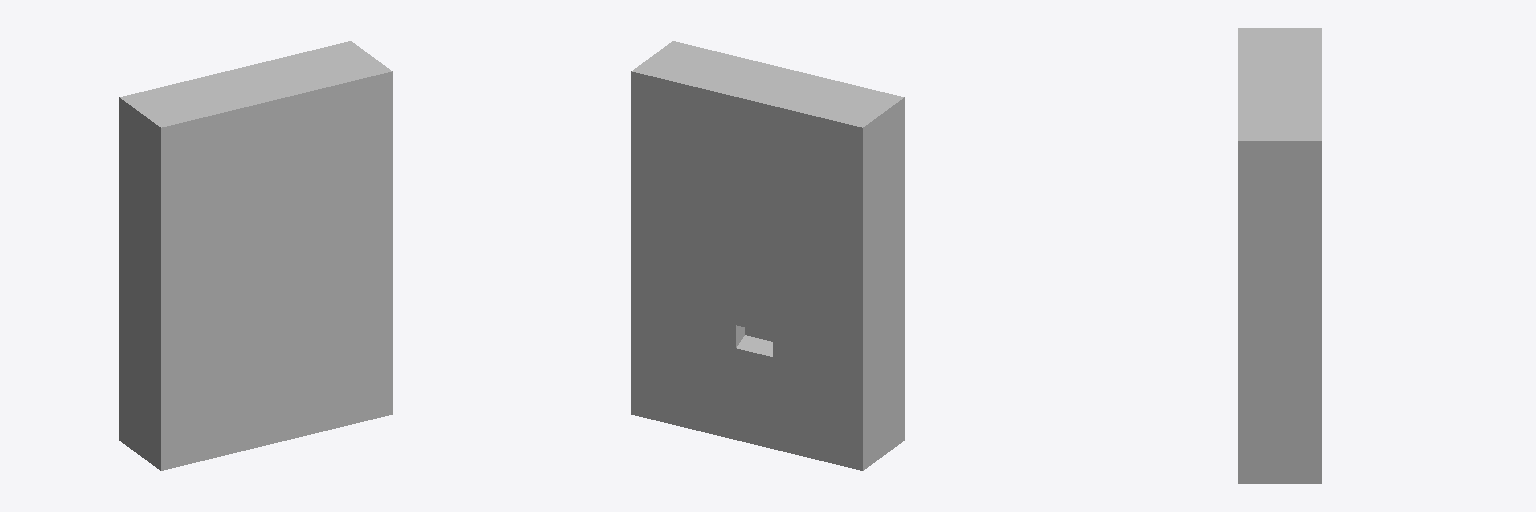
Rendered from pachinko_body.obj.
3 views of the same model, side by side, from view 1: azimuth 30°, elevation 25°; view 2: azimuth 150°, elevation 25°; view 3: azimuth 270°, elevation 25° (orthographic).
Visible parts, largest first — view 1: polySurface124 loftedSurface7; view 2: polySurface124 loftedSurface7; view 3: polySurface124 loftedSurface7.
Boxes of the visible parts, x1=… form: polySurface124 loftedSurface7: x1=119, y1=41, x2=392, y2=470; polySurface124 loftedSurface7: x1=631, y1=41, x2=904, y2=470; polySurface124 loftedSurface7: x1=1238, y1=28, x2=1321, y2=483.
Bounding box in the file's own units: 4.32 × 6.13 × 1.35.